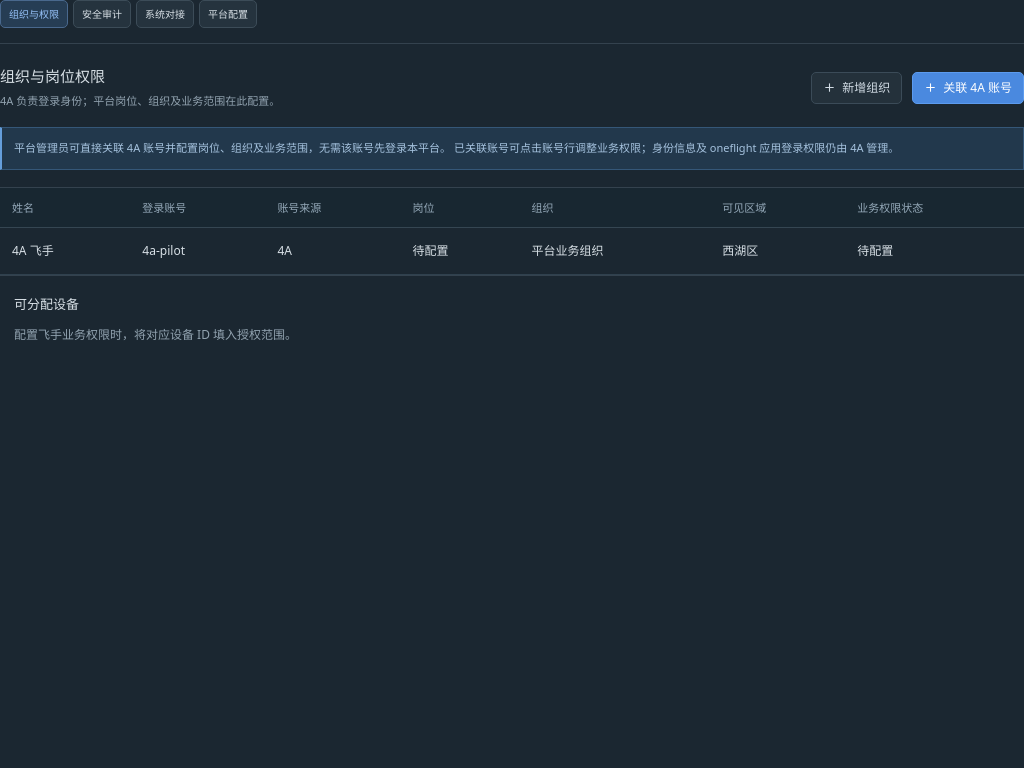
Test: 4A identity and independent platform business access › requires the administrator to choose a business role for a new 4A identity
The width and height of the screenshot is (1024, 768).
Click the text "4A 飞手".
click(65, 251)  # box [0,228,130,274]
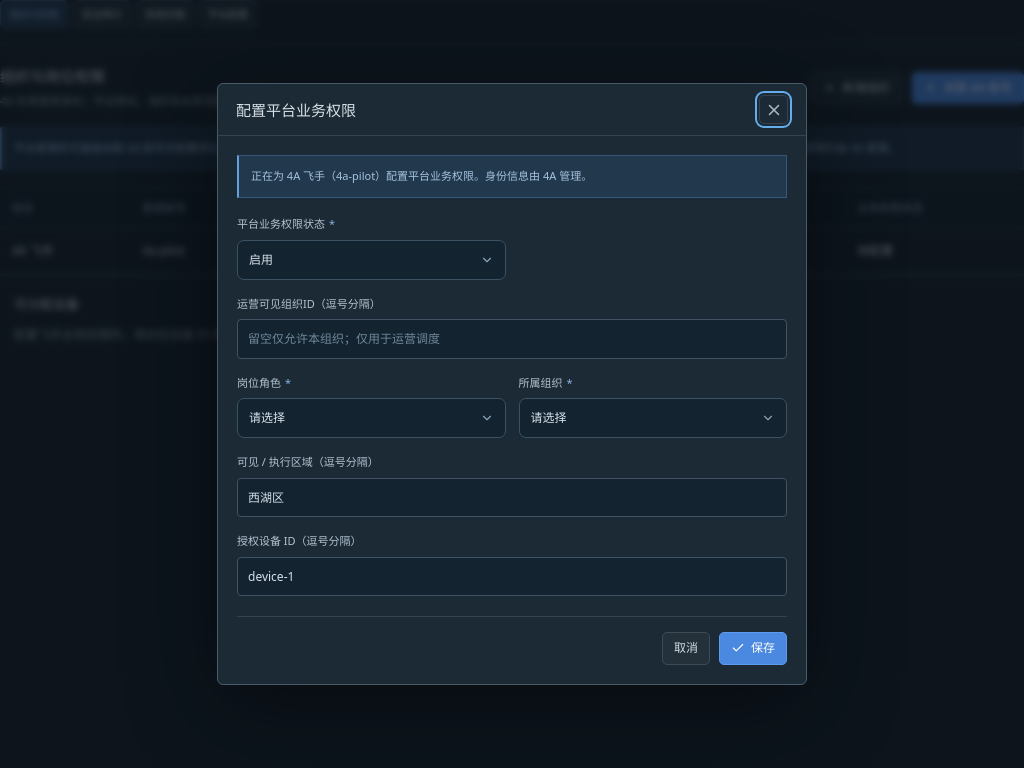
Expected: the dropdown named "岗位角色" reads "请选择", [237,398,506,438]
Click the button "保存".
click(753, 648)  # box [719,632,787,665]
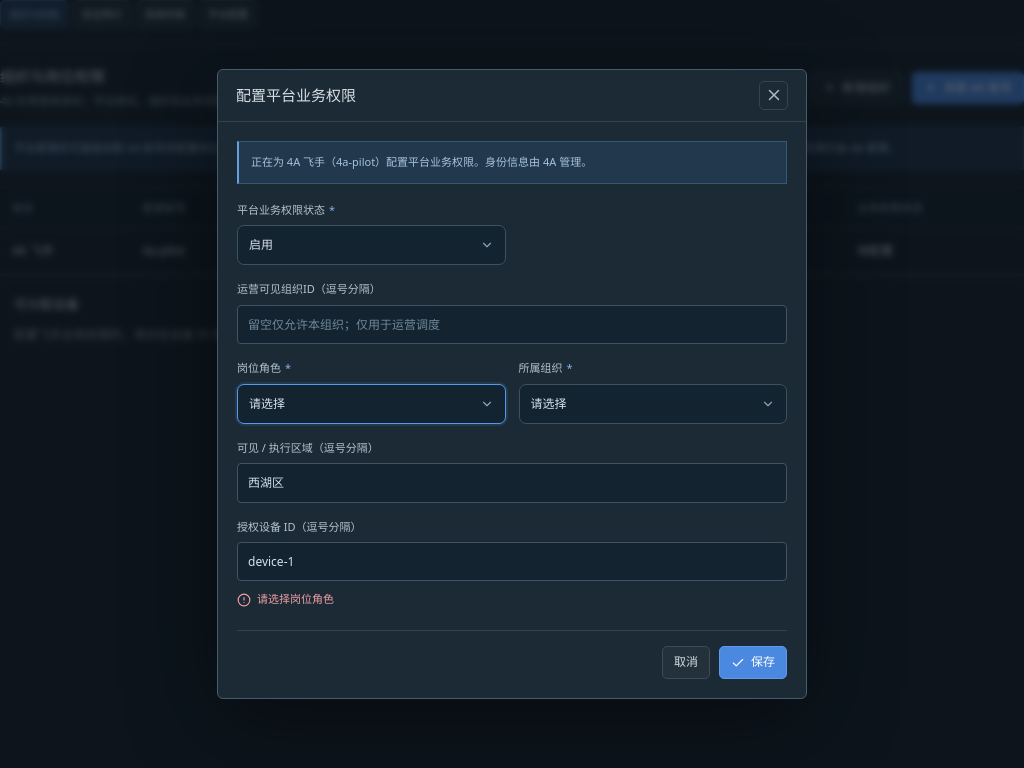
Expected: the text "请选择岗位角色" is shown, [237,591,334,607]
